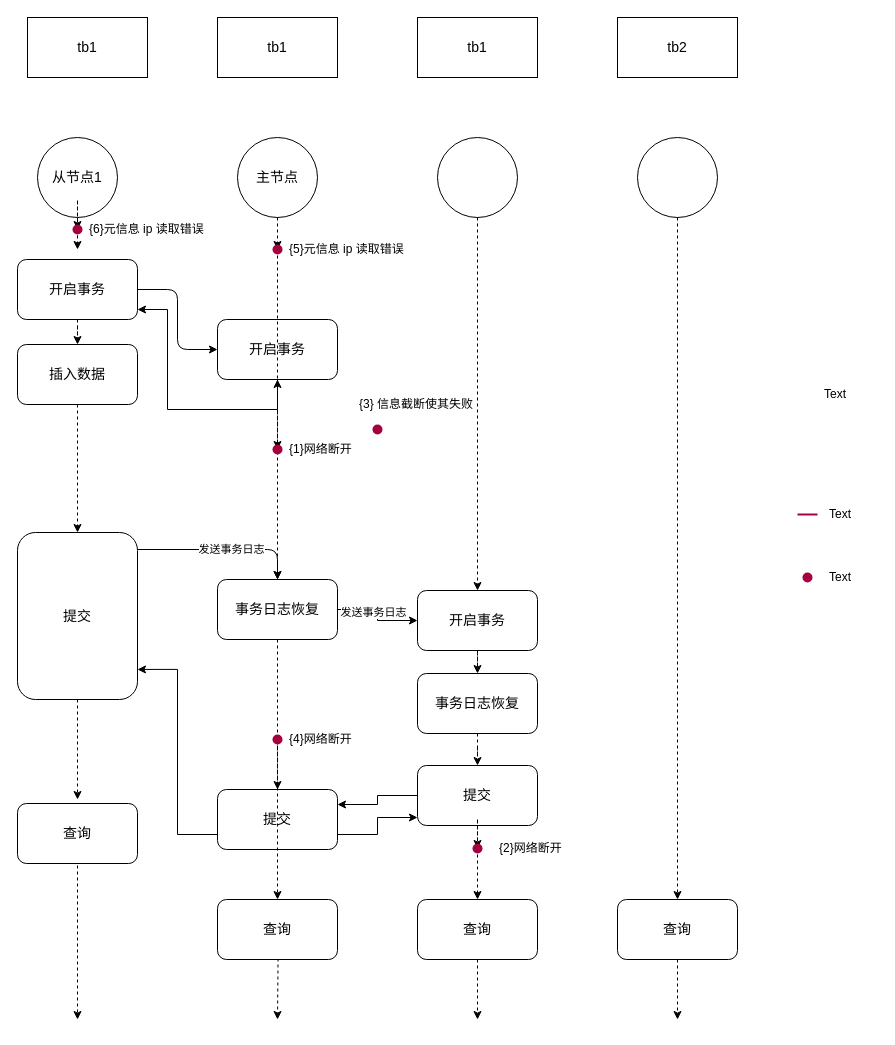
Image size: 895x1045. Some labels were removed from this diagram. The centre of each missing label's shape, as x and y in pixels:
"从节点2" goes at (477,177).
"从节点3" goes at (677,177).
